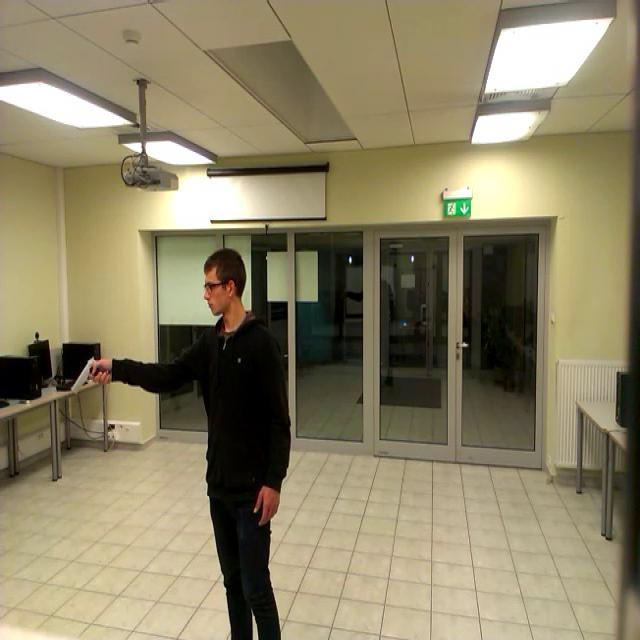Gun: (70, 354, 109, 394)
